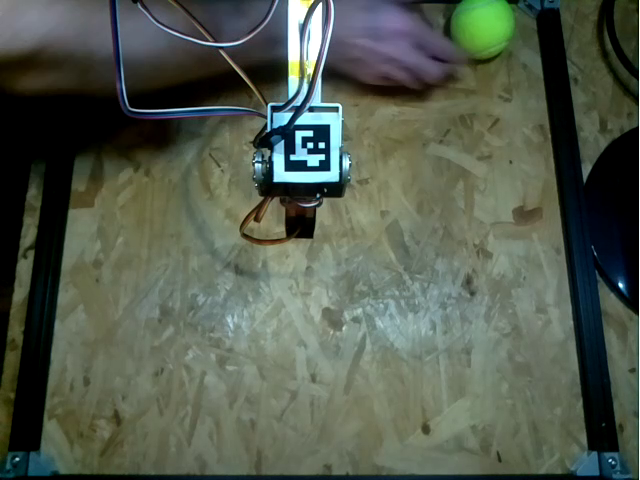tennis_ball: (447, 2, 516, 61)
